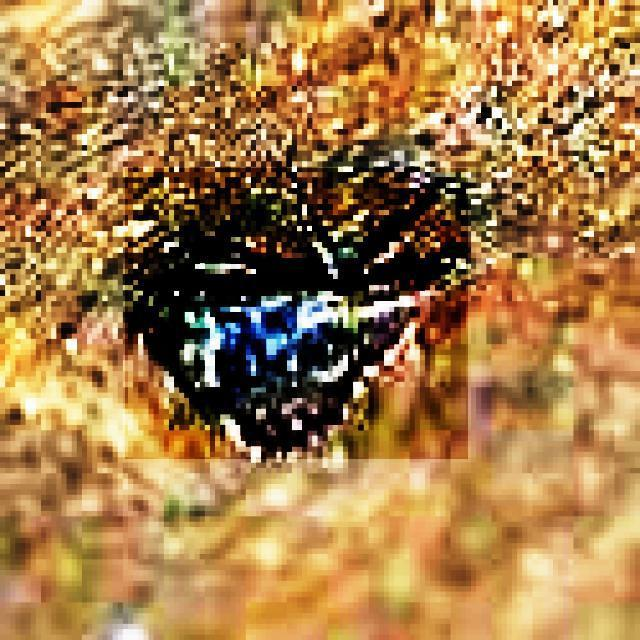rice-bug: (125, 168, 468, 459)
